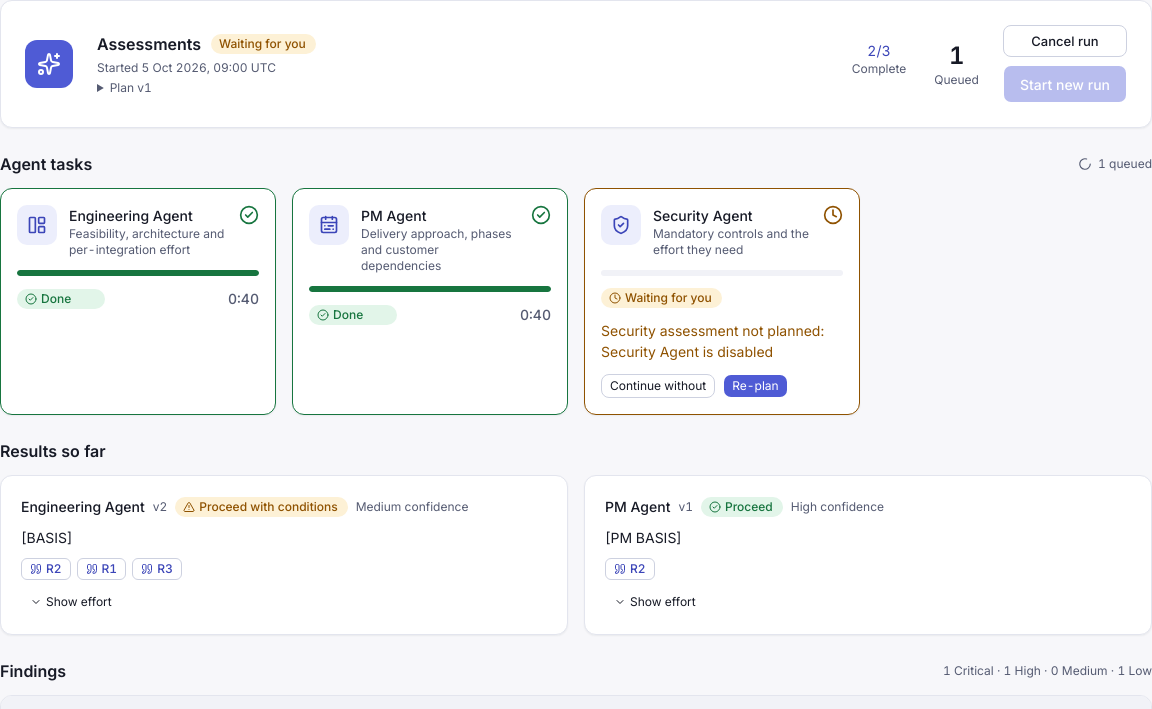
Test: a run waiting for a person (Story 5.5) › Re-plan is enabled once the agent is active again
Click the button with aria-label "Re-plan Security Agent".
click(756, 386)  # box 723,374 -> 788,398
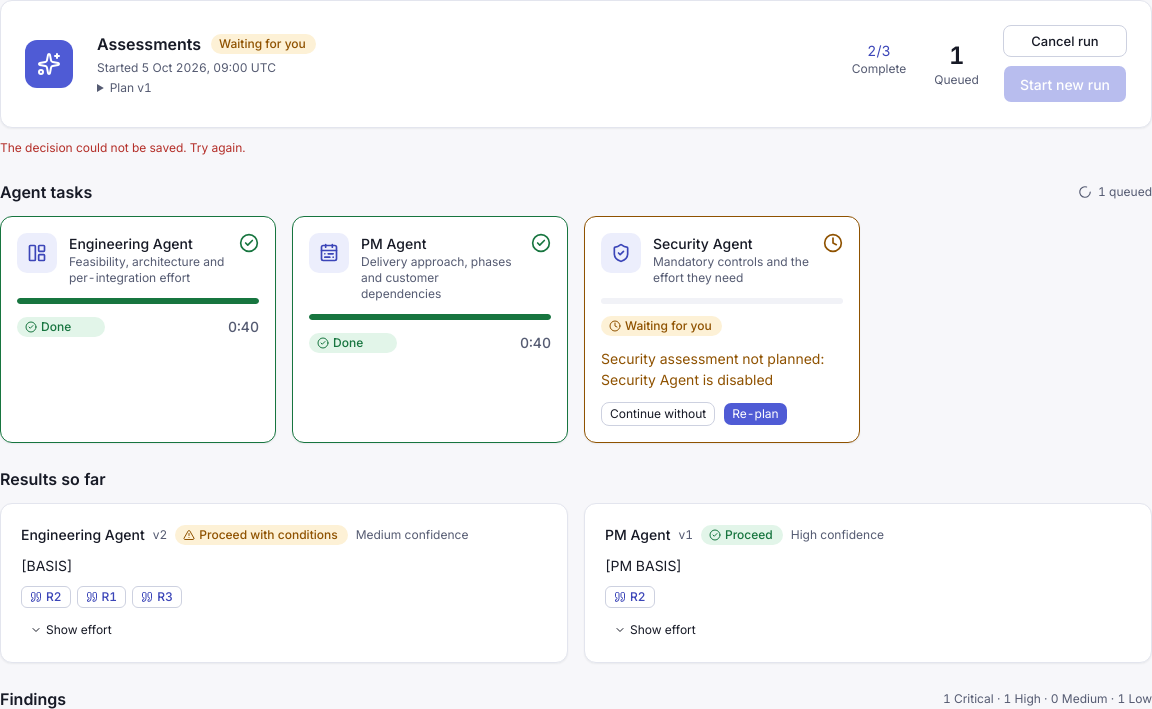
Expected: the text "The decision could not be saved. Try again." is shown, 0,140 -> 246,155
